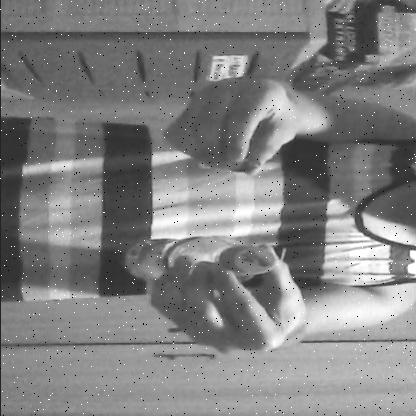Plastic Bottle: (111, 231, 287, 290)
